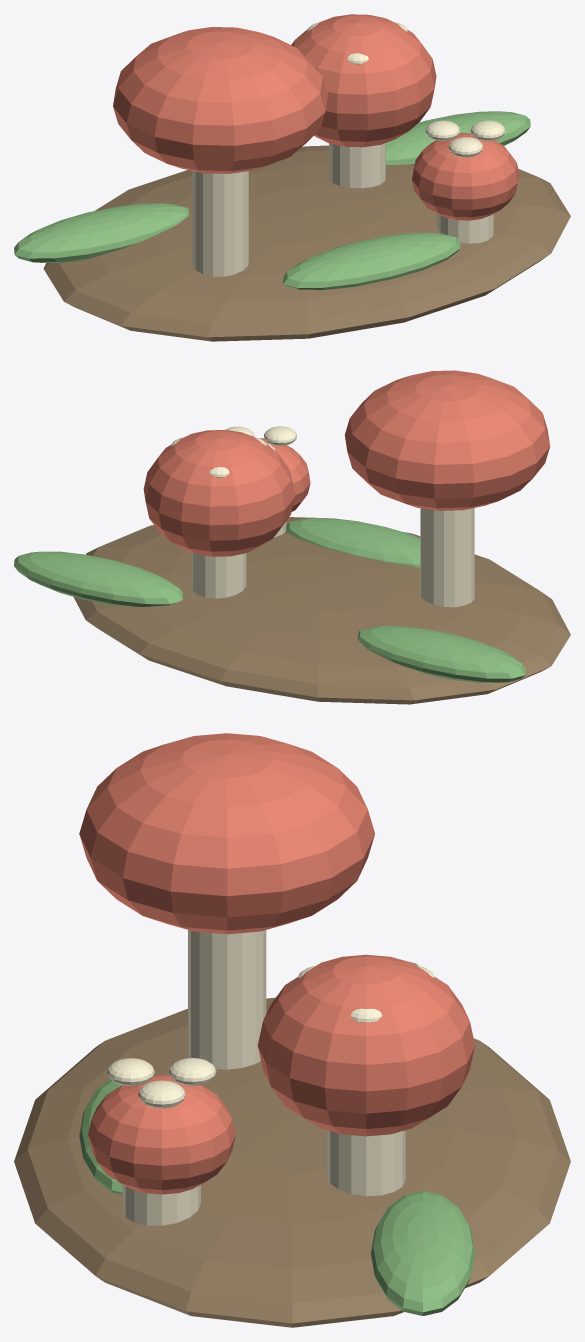
File: MushroomPatch.fbx
3 views of the same model, one above another, from view 1: azimuth 30°, elevation 25°; view 2: azimuth 150°, elevation 25°; view 3: azimuth 270°, elevation 25° (orthographic). The views are drawn at different scales.
Parts seen in each view (by area): view 1: Mulch bed, Red cap, Red cap.001, Red cap.002, Ground leaf.001, Ground leaf, Ivory stem, Ground leaf.002, Ivory stem.001, Ivory stem.002, Cap spot.007, Cap spot.006 (+1 smaller); view 2: Mulch bed, Red cap, Red cap.001, Ground leaf.002, Ground leaf, Ivory stem, Ground leaf.001, Ivory stem.001, Red cap.002, Cap spot.008; view 3: Mulch bed, Red cap, Red cap.001, Red cap.002, Ivory stem, Ground leaf.002, Ivory stem.001, Ivory stem.002, Ground leaf.001, Cap spot.006, Cap spot.007, Cap spot.008.
Part boxes in pixels (x1,y1,x2,y2): Mulch bed: (43, 145, 570, 341); Red cap: (113, 27, 327, 173); Red cap.001: (291, 14, 436, 147); Red cap.002: (412, 133, 519, 220); Ground leaf.001: (283, 233, 460, 289); Ground leaf: (14, 203, 188, 262); Ivory stem: (192, 171, 248, 276); Ground leaf.002: (386, 111, 530, 164); Ivory stem.001: (329, 143, 385, 188); Ivory stem.002: (437, 213, 493, 243); Cap spot.007: (425, 120, 460, 140); Cap spot.006: (470, 120, 505, 140); Mulch bed: (73, 517, 570, 704); Red cap: (344, 370, 550, 510); Red cap.001: (143, 430, 294, 556); Ground leaf.002: (14, 551, 182, 606); Ground leaf: (357, 626, 525, 682); Ivory stem: (420, 508, 474, 607); Ground leaf.001: (285, 518, 420, 567); Ivory stem.001: (192, 553, 246, 598); Red cap.002: (259, 438, 310, 511); Cap spot.008: (264, 426, 296, 445); Mulch bed: (14, 997, 570, 1327); Red cap: (79, 733, 374, 934); Red cap.001: (257, 954, 475, 1136); Red cap.002: (88, 1075, 235, 1194); Ivory stem: (188, 930, 266, 1069); Ground leaf.002: (371, 1191, 475, 1315); Ivory stem.001: (327, 1130, 405, 1196); Ivory stem.002: (122, 1184, 200, 1225); Ground leaf.001: (79, 1079, 122, 1194); Cap spot.006: (138, 1080, 185, 1108); Cap spot.007: (168, 1058, 216, 1085); Cap spot.008: (107, 1058, 154, 1085).
Bounding box in the file's own units: 190 × 94.5 × 128.
